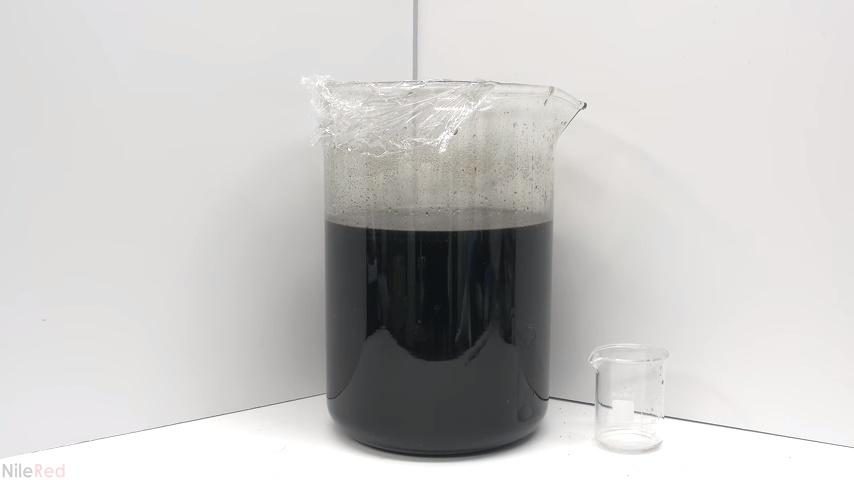Beaker: (290, 67, 583, 452), (585, 331, 670, 460)
